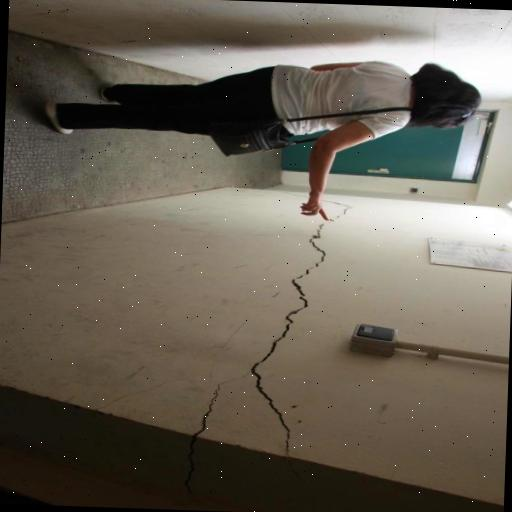spalling: (243, 225, 332, 447), (193, 382, 229, 433)
